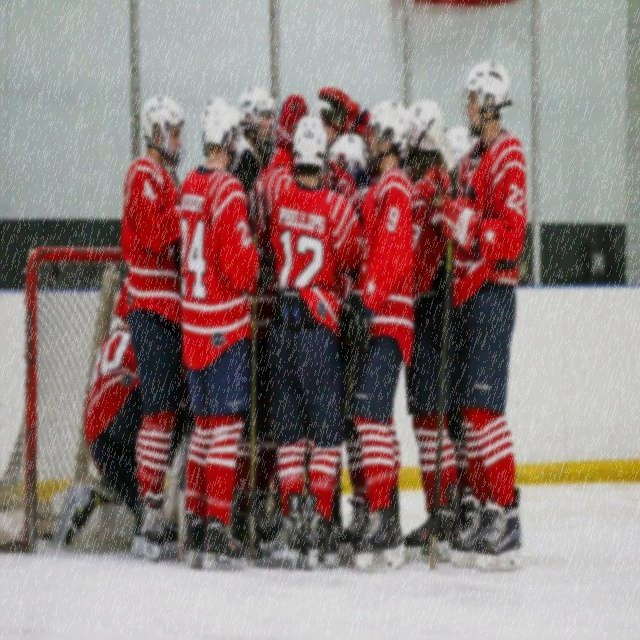pessoa: (242, 93, 388, 572), (417, 48, 530, 587), (263, 107, 367, 578), (170, 88, 268, 578), (334, 99, 418, 574), (387, 95, 466, 550), (49, 321, 197, 552), (118, 92, 186, 564), (226, 81, 280, 562), (439, 122, 486, 196)
